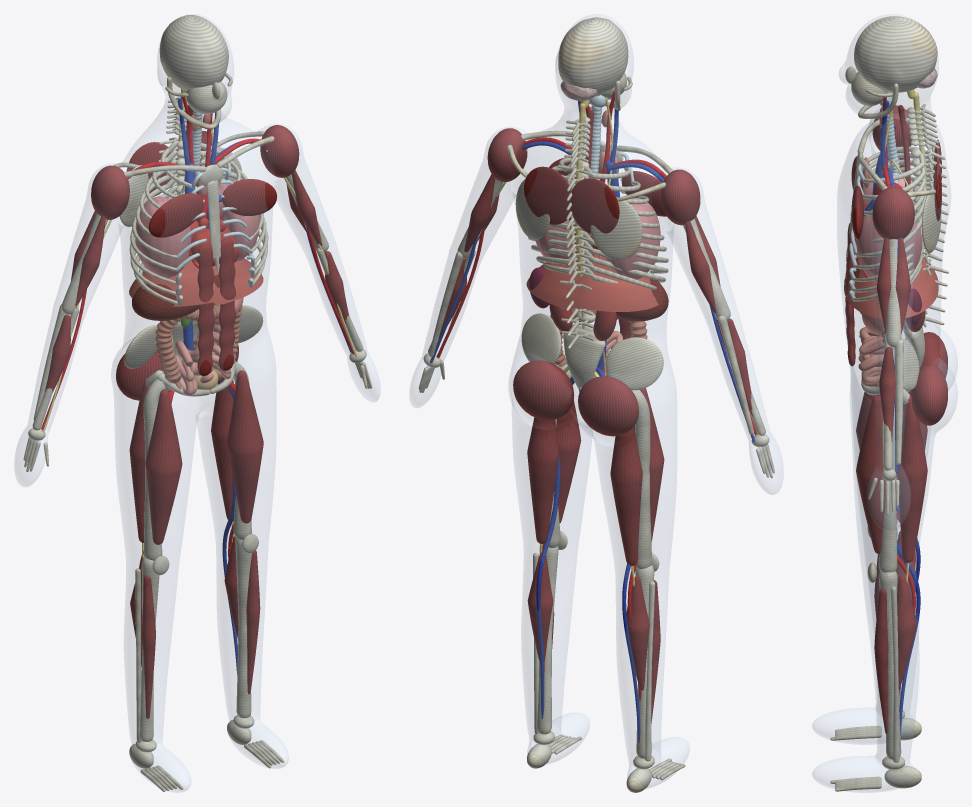
File: human_anatomy_draco.glb
The picture shows the model from 3 angles, left to right: view 1: azimuth 30°, elevation 25°; view 2: azimuth 150°, elevation 25°; view 3: azimuth 270°, elevation 25°; orthographic projection. The views are drawn at different scales.
Visible parts, largest first — view 1: Outer_Skin_Body, Skull, Quadriceps_R, Quadriceps_L, Diaphragm, Tibia_L, Lung_R, Rectus_Abdominis_R, Rectus_Abdominis_L, Hamstrings_L, Deltoid_R, Pectoralis_Major_R (+32 smaller); view 2: Outer_Skin_Body, Skull, Diaphragm, Hamstrings_R, Hamstrings_L, Gluteus_Maximus_L, Gluteus_Maximus_R, Hip_Bone_R, Trapezius_R, Femur_R, Scapula_R, Trapezius_L (+29 smaller); view 3: Outer_Skin_Body, Skull, Hamstrings_L, Quadriceps_L, Deltoid_L, Gluteus_Maximus_L, Diaphragm, Foot_Bones_L, Lung_L, Tibia_L, Tibialis_Anterior_L, Gastrocnemius_L (+30 smaller).
Boxes of the visible parts, left/top/right/bottom form: Outer_Skin_Body: left=14, top=14, right=380, bottom=792; Skull: left=159, top=15, right=232, bottom=114; Quadriceps_R: left=145, top=389, right=182, bottom=544; Quadriceps_L: left=226, top=370, right=263, bottom=523; Diaphragm: left=129, top=256, right=263, bottom=306; Tibia_L: left=235, top=538, right=252, bottom=718; Lung_R: left=135, top=196, right=191, bottom=278; Rectus_Abdominis_R: left=197, top=244, right=214, bottom=375; Rectus_Abdominis_L: left=218, top=238, right=235, bottom=370; Hamstrings_L: left=211, top=379, right=233, bottom=521; Deltoid_R: left=91, top=165, right=129, bottom=219; Pectoralis_Major_R: left=148, top=193, right=203, bottom=237; Outer_Skin_Body: left=409, top=14, right=783, bottom=788; Skull: left=558, top=17, right=632, bottom=99; Diaphragm: left=526, top=253, right=658, bottom=311; Hamstrings_R: left=610, top=426, right=642, bottom=565; Hamstrings_L: left=527, top=417, right=559, bottom=543; Gluteus_Maximus_L: left=513, top=360, right=574, bottom=420; Gluteus_Maximus_R: left=578, top=376, right=638, bottom=436; Hip_Bone_R: left=605, top=337, right=663, bottom=391; Trapezius_R: left=571, top=178, right=619, bottom=233; Femur_R: left=633, top=390, right=651, bottom=569; Scapula_R: left=590, top=182, right=665, bottom=259; Trapezius_L: left=524, top=166, right=571, bottom=224; Outer_Skin_Body: left=812, top=14, right=957, bottom=792; Skull: left=845, top=16, right=937, bottom=105; Hamstrings_L: left=896, top=395, right=927, bottom=562; Quadriceps_L: left=856, top=395, right=885, bottom=554; Deltoid_L: left=872, top=186, right=914, bottom=239; Gluteus_Maximus_L: left=910, top=363, right=947, bottom=425; Diaphragm: left=844, top=255, right=938, bottom=318; Foot_Bones_L: left=830, top=756, right=921, bottom=791; Lung_L: left=856, top=209, right=922, bottom=282; Tibia_L: left=878, top=571, right=901, bottom=759; Tibialis_Anterior_L: left=874, top=588, right=888, bottom=733; Gastrocnemius_L: left=897, top=576, right=916, bottom=689.
Bounding box in the file's own units: 0.8827 × 1.75 × 0.3085.
159 materials, 158 textured.
